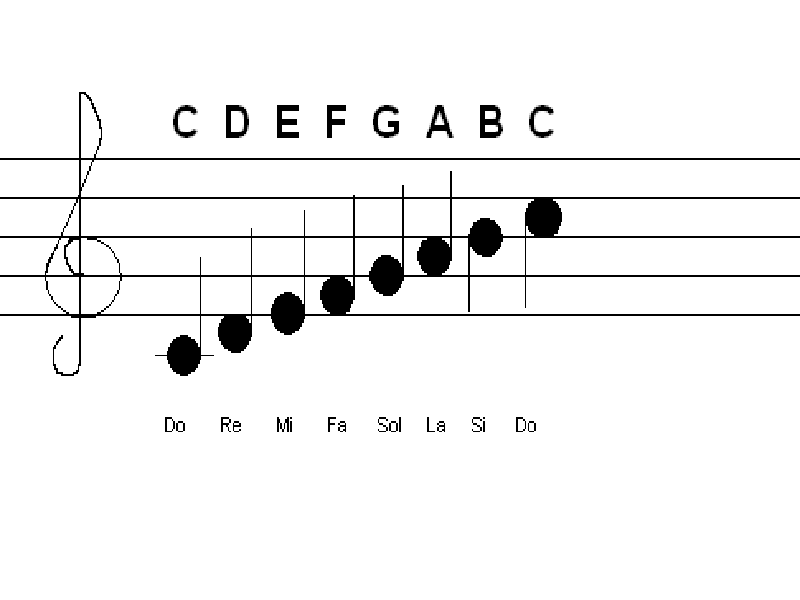CS: (43, 89, 131, 384)
N: (319, 192, 365, 316), (269, 207, 311, 339), (164, 259, 210, 379), (218, 227, 261, 353), (519, 197, 565, 306), (418, 170, 459, 285), (369, 184, 409, 300), (462, 215, 507, 313)
